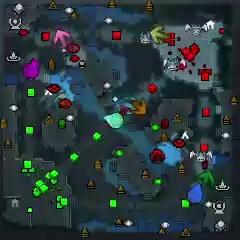p1: (186, 182, 204, 204)
p2: (103, 112, 124, 130)
p3: (23, 59, 41, 79)
x1: (53, 29, 71, 47)
x2: (150, 25, 168, 45)
x3: (124, 96, 137, 116)
x4: (198, 170, 215, 187)
x5: (130, 98, 147, 116)
